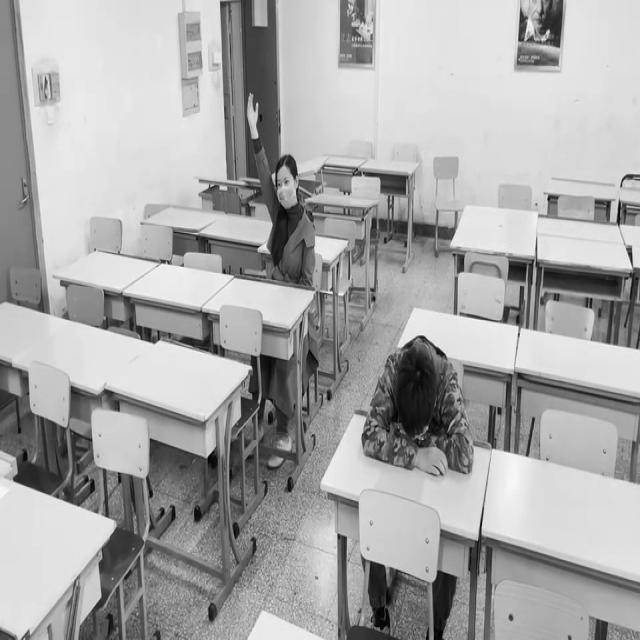sleep: (363, 338, 473, 478)
study: (246, 90, 315, 283)
